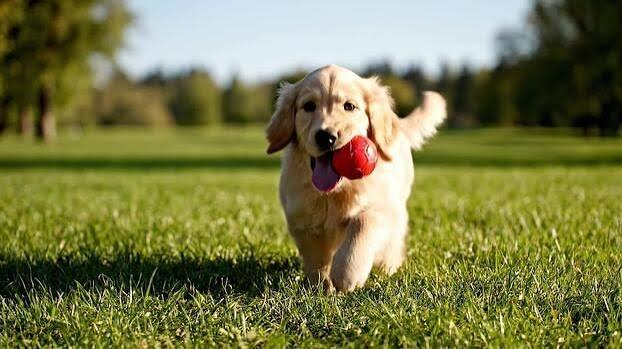puppy-dog: (263, 65, 452, 296)
